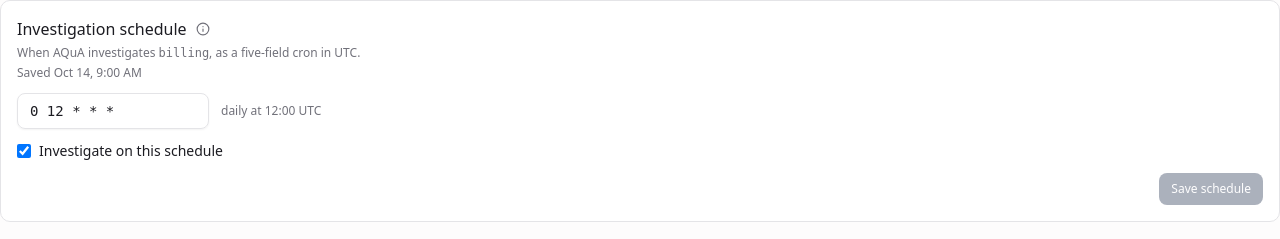
ScheduleCard › puts the saved values back on discard
Type "0 6 * * *" into the field showing "0 12 * * *". click: (113, 111)
box: [17,93,209,129]
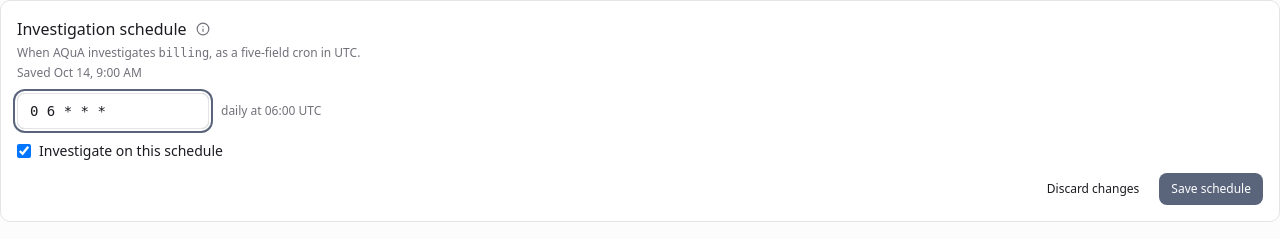
Click the button "Discard changes". click: (1093, 189)
box: [1035,173,1151,205]
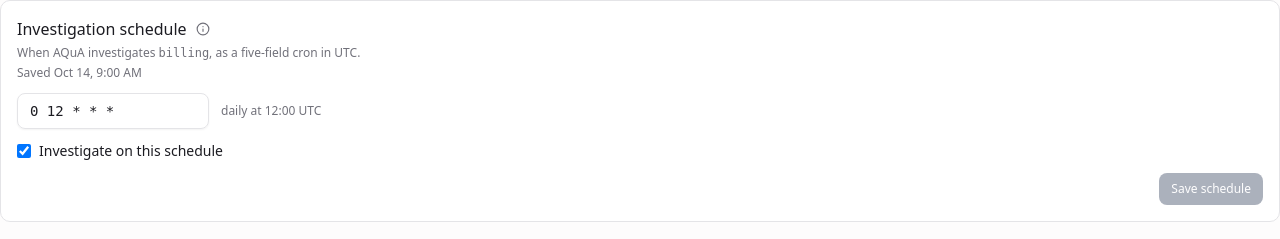
Expected: the field showing "0 12 * * *" is shown, [17,93,209,129]
Expected: the button "Save schedule" is disabled, [1159,173,1263,205]
